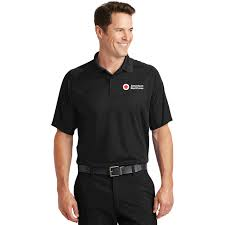S_polo shirt: (47, 51, 169, 169)
